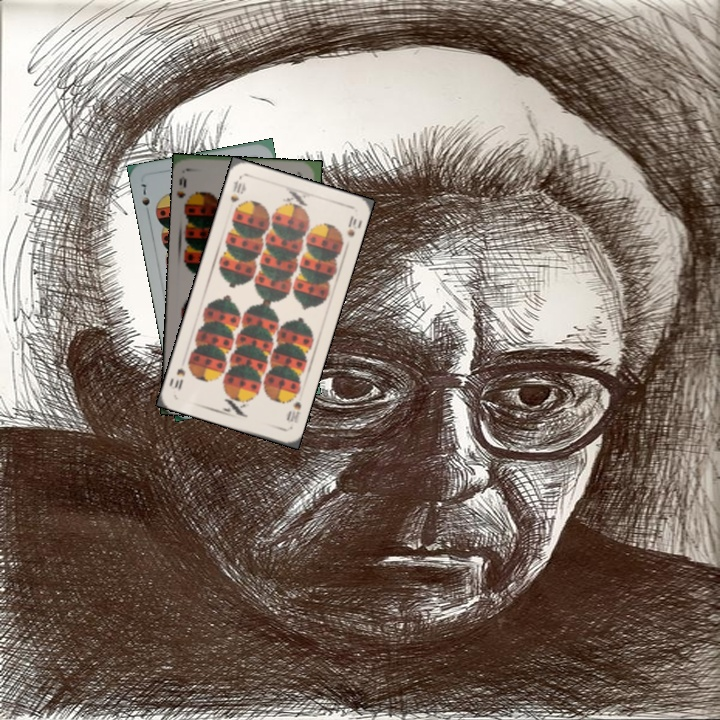S10: (226, 174, 248, 206), (282, 397, 304, 426)
S7: (137, 180, 152, 209)
S9: (174, 172, 194, 210)
